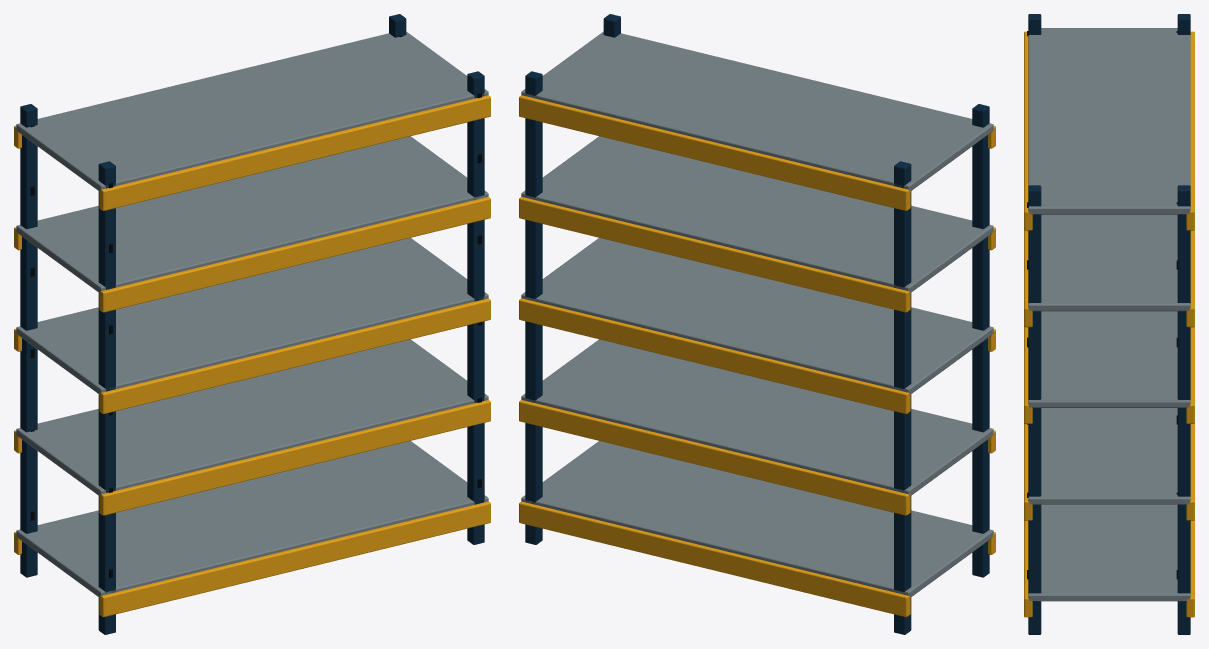
File: OAA_Warehouse_Rack_2m.fbx
3 views of the same model, side by side, from view 1: azimuth 30°, elevation 25°; view 2: azimuth 150°, elevation 25°; view 3: azimuth 270°, elevation 25° (orthographic). The views are drawn at different scales.
Parts seen in each view (by area): view 1: Body; view 2: Body; view 3: Body.
Boxes of the visible parts, x1,y1,x2,y2 form: Body: (14,14,490,634); Body: (519,14,995,634); Body: (1024,14,1194,634).
Size of the model in its own units: 2 by 2.3 by 0.8.
